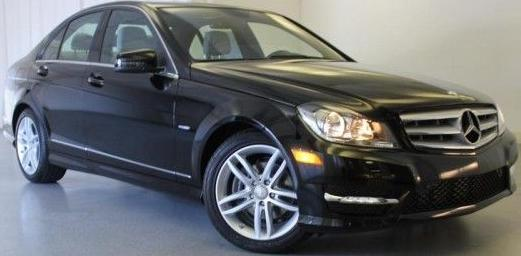front_view: (295, 84, 509, 219)
headlight: (287, 96, 398, 154)
side_glass: (55, 12, 187, 84)
